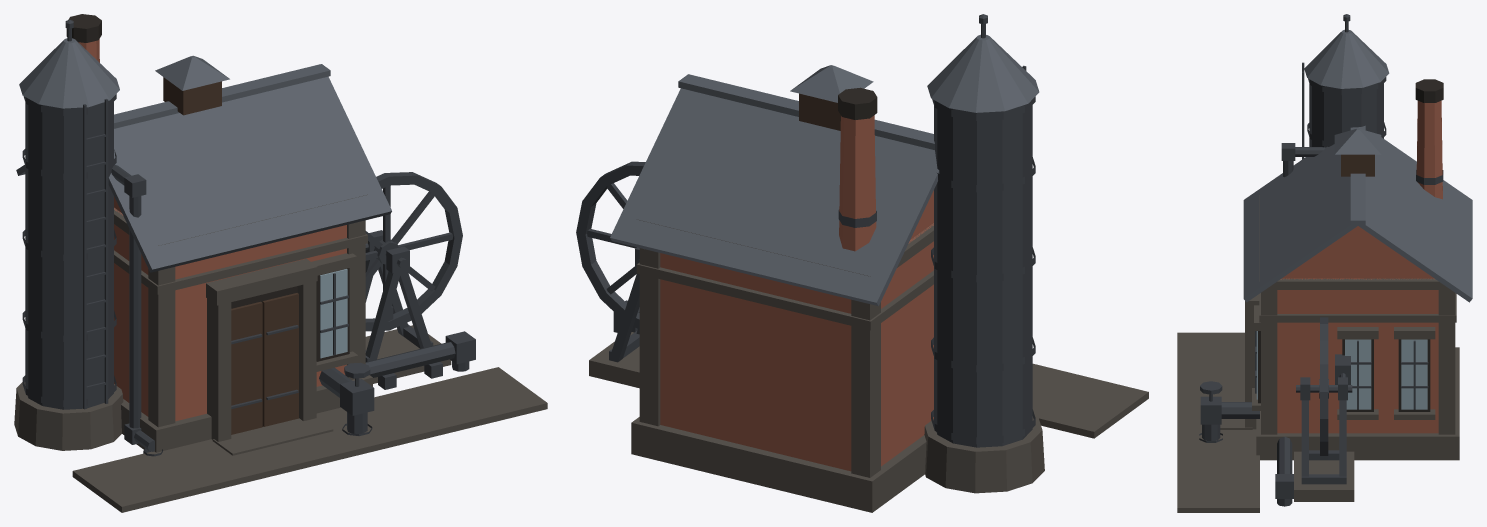
Rendered from era2-waterworks-BPpIjeT3.glb.
3 renders of one model, left to right at view 1: azimuth 30°, elevation 25°; view 2: azimuth 150°, elevation 25°; view 3: azimuth 270°, elevation 25°, orthographic. The views are drawn at different scales.
Visible parts, largest first — view 1: Waterworks_Stonework, Waterworks_Roof, Waterworks_Tank, Waterworks_Ironwork, Waterworks_Hall, Waterworks_Timber, Waterworks_Flywheel, Waterworks_Glazing, Waterworks_Openings, Waterworks_StackCap; view 2: Waterworks_Roof, Waterworks_Hall, Waterworks_Stonework, Waterworks_Tank, Waterworks_Flywheel, Waterworks_Ironwork, Waterworks_Timber, Waterworks_StackCap; view 3: Waterworks_Stonework, Waterworks_Roof, Waterworks_Hall, Waterworks_Ironwork, Waterworks_Tank, Waterworks_Glazing, Waterworks_Flywheel, Waterworks_Openings, Waterworks_Timber, Waterworks_StackCap.
Boxes of the visible parts, bbox=[...] form: Waterworks_Stonework: bbox=[14, 194, 547, 512]; Waterworks_Roof: bbox=[16, 38, 391, 272]; Waterworks_Tank: bbox=[22, 94, 116, 409]; Waterworks_Ironwork: bbox=[65, 19, 475, 456]; Waterworks_Hall: bbox=[78, 39, 346, 421]; Waterworks_Timber: bbox=[163, 77, 298, 434]; Waterworks_Flywheel: bbox=[365, 172, 462, 331]; Waterworks_Glazing: bbox=[320, 269, 347, 358]; Waterworks_Openings: bbox=[231, 268, 349, 361]; Waterworks_StackCap: bbox=[66, 14, 101, 42]; Waterworks_Roof: bbox=[610, 34, 1039, 306]; Waterworks_Hall: bbox=[660, 115, 933, 471]; Waterworks_Stonework: bbox=[589, 219, 1148, 512]; Waterworks_Tank: bbox=[931, 96, 1035, 447]; Waterworks_Flywheel: bbox=[576, 161, 645, 329]; Waterworks_Ironwork: bbox=[609, 14, 1026, 362]; Waterworks_Timber: bbox=[799, 93, 840, 130]; Waterworks_StackCap: bbox=[838, 87, 877, 119]; Waterworks_Stonework: bbox=[1177, 195, 1459, 512]; Waterworks_Roof: bbox=[1243, 29, 1472, 302]; Waterworks_Hall: bbox=[1277, 100, 1442, 433]; Waterworks_Ironwork: bbox=[1199, 14, 1443, 506]; Waterworks_Tank: bbox=[1307, 77, 1386, 147]; Waterworks_Glazing: bbox=[1256, 331, 1427, 409]; Waterworks_Flywheel: bbox=[1319, 317, 1328, 460]; Waterworks_Openings: bbox=[1258, 331, 1430, 411]; Waterworks_Timber: bbox=[1341, 154, 1374, 176]; Waterworks_StackCap: bbox=[1415, 79, 1443, 102].
Size of the model in its own units: 11 by 10.07 by 7.84.
